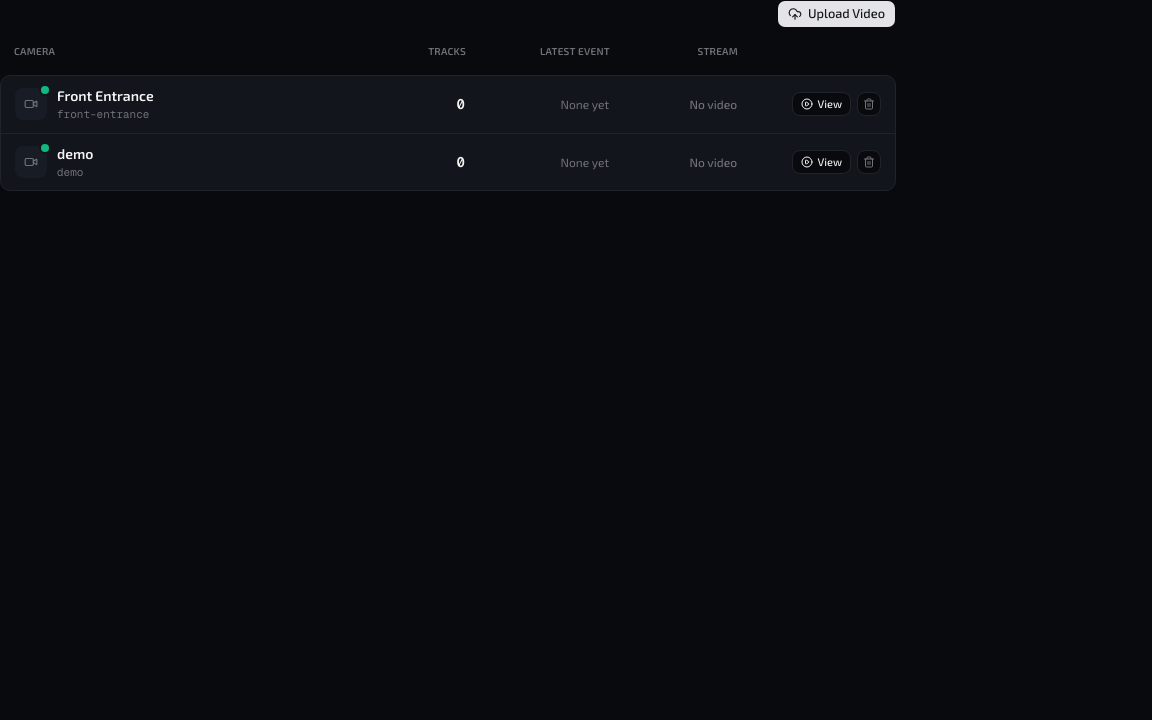
Test: CamerasView delete action › opens the delete confirmation for the row that was clicked, with that camera real preview counts
Click the button named "Delete camera": coordinates (869, 104) [857,92,881,116]
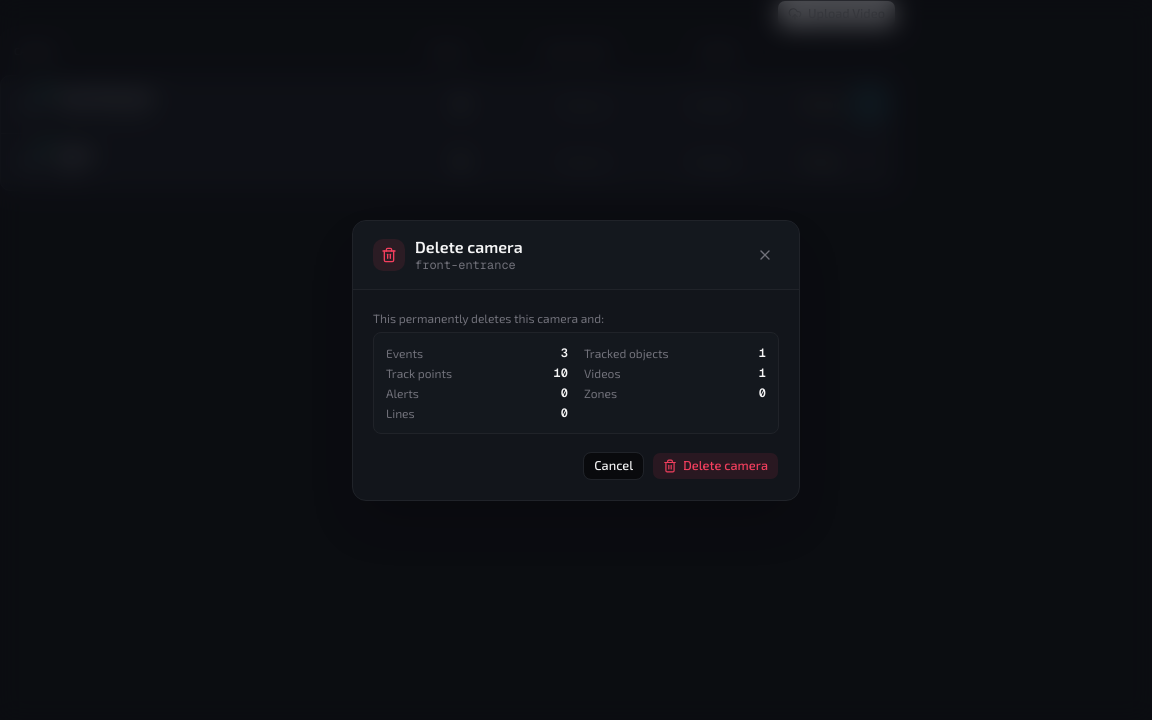
expect the text "front-entrance" is shown: met, box [415,256,523,272]
